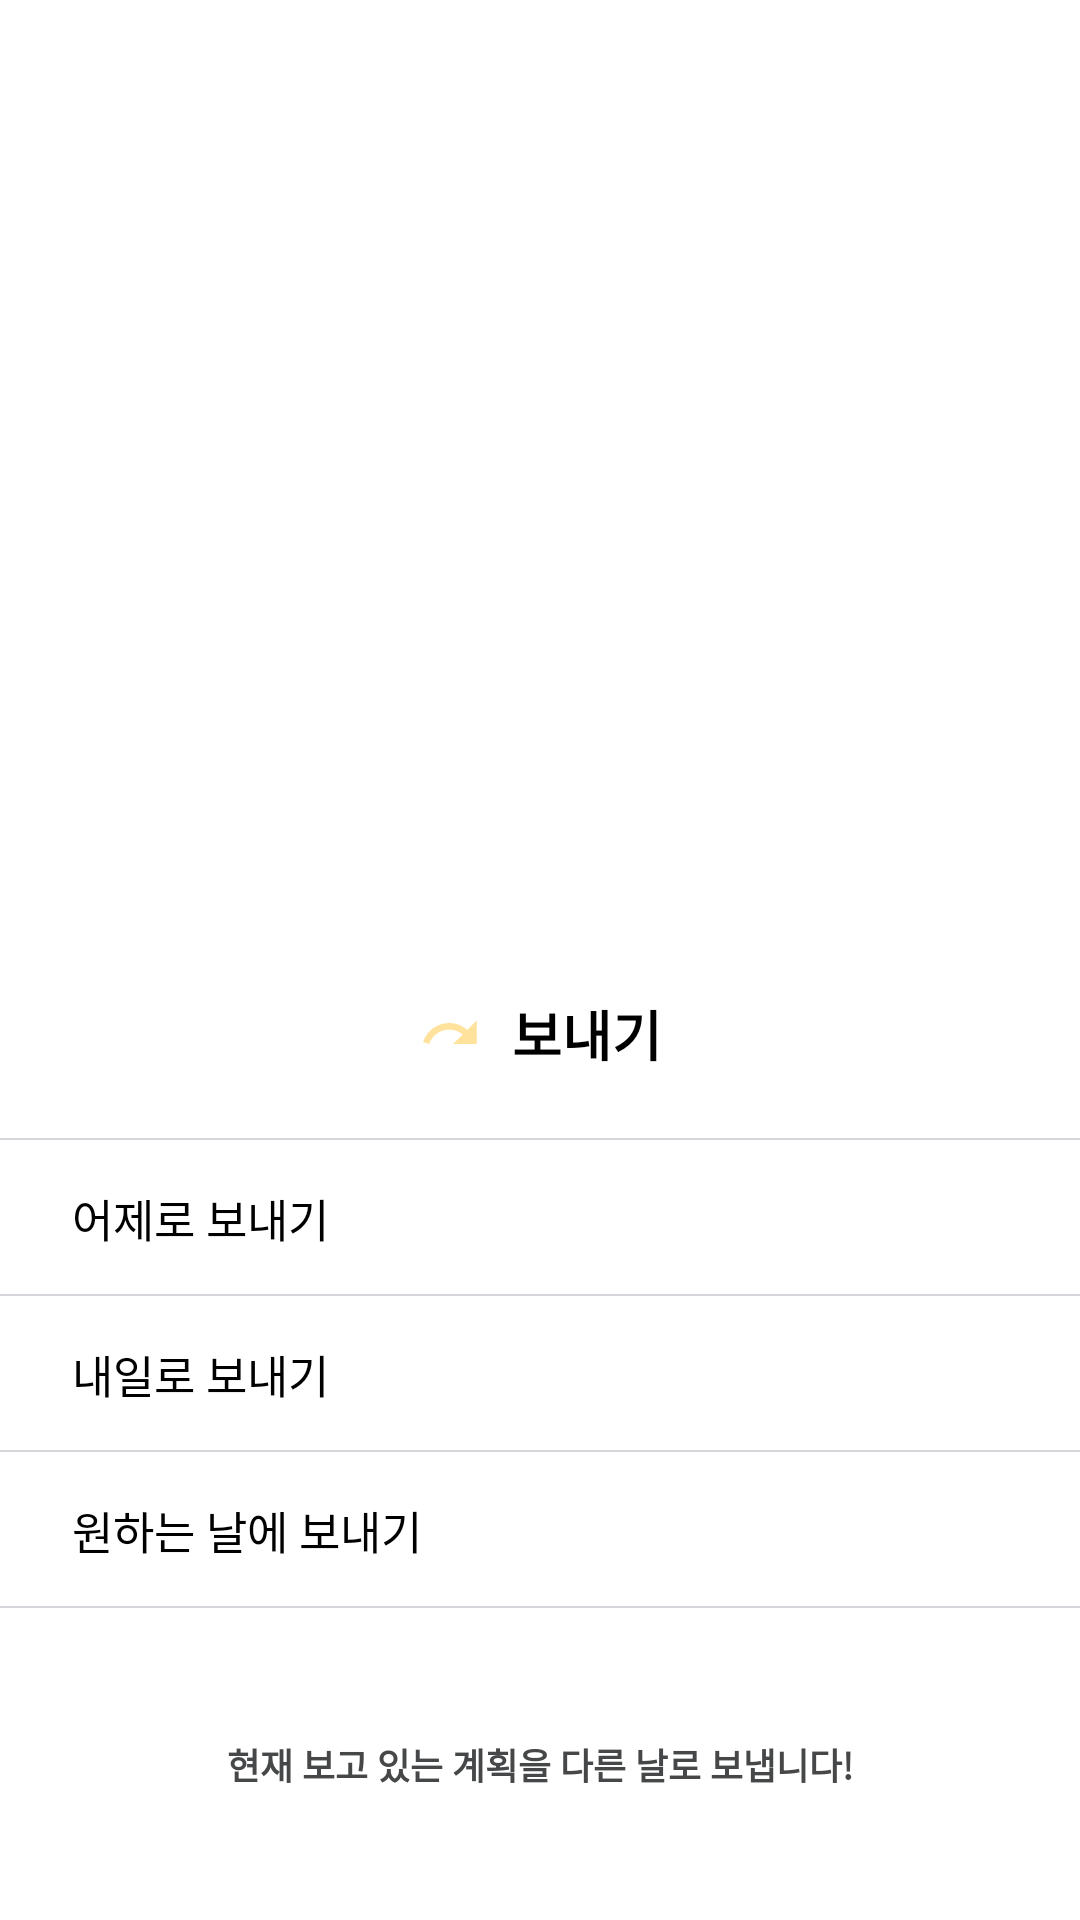

Where to tap for icons on this 1080 × 1920 app screen, as [x,y]:
go send: [450,1032]
